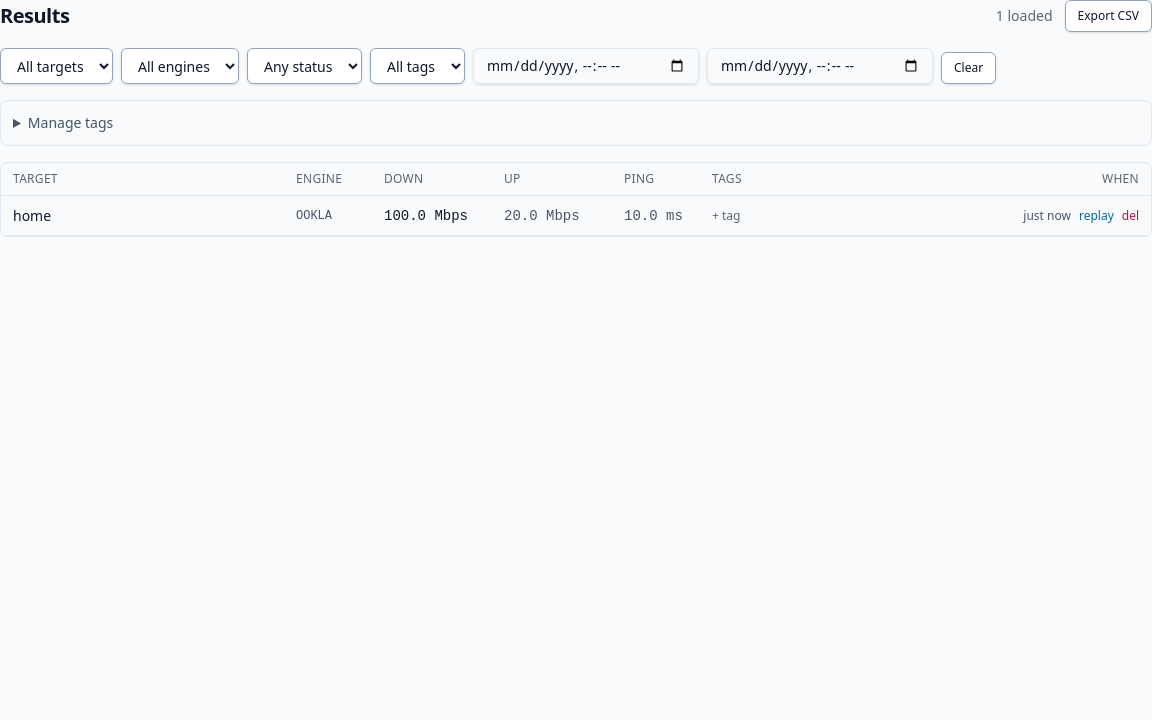
shows an error when deleting a result fails
Click the button with aria-label "delete result". click: (1130, 216)
box: left=1122, top=208, right=1139, bottom=224
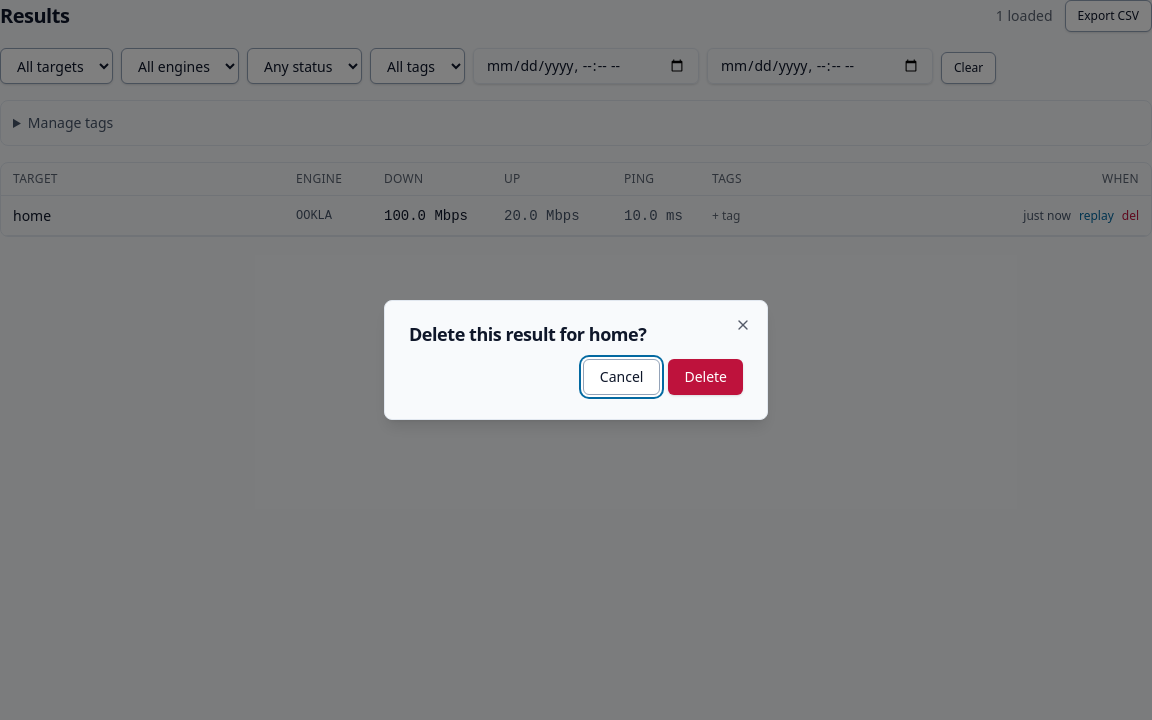
Click the button "Delete". click: (706, 377)
box: left=668, top=359, right=743, bottom=395
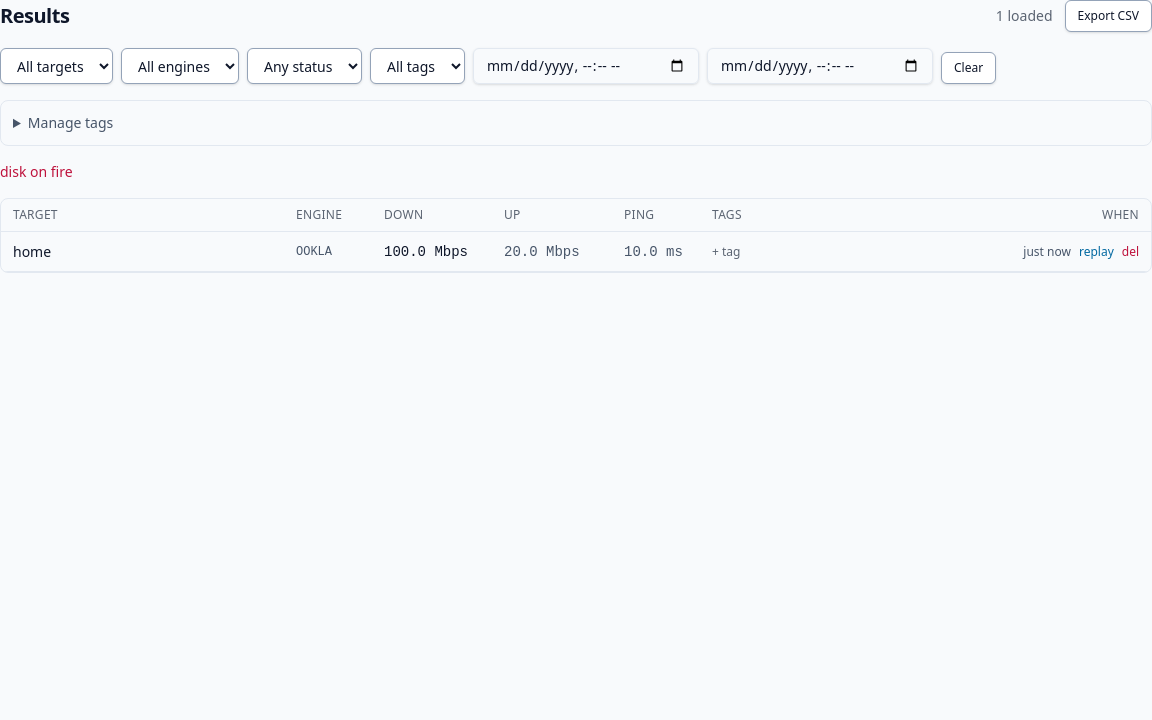
Expected: the message reads "disk on fire", left=0, top=162, right=73, bottom=181
